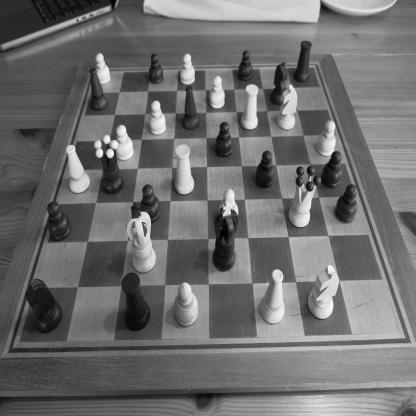black-bishop: (89, 67, 109, 112), (182, 85, 200, 131)
black-king: (212, 200, 239, 272)
black-knight: (24, 277, 63, 334), (270, 61, 288, 106)
black-pawn: (46, 200, 72, 243), (334, 183, 358, 225), (139, 184, 161, 225), (254, 149, 275, 190), (321, 150, 342, 189), (215, 121, 233, 158), (148, 53, 164, 85), (238, 50, 253, 82)
black-queen: (94, 134, 124, 196)
black-rook: (121, 271, 151, 332), (292, 40, 312, 83)
white-bishop: (259, 269, 286, 326), (66, 144, 90, 195)
white-king: (125, 201, 157, 274)
white-knight: (307, 264, 340, 321), (277, 83, 298, 131)
white-pawn: (174, 282, 198, 328), (316, 120, 336, 157), (116, 124, 134, 161), (217, 188, 239, 216), (149, 100, 166, 136), (179, 52, 196, 86), (209, 76, 225, 110), (95, 52, 111, 85)
white-queen: (288, 165, 322, 229)
white-rook: (174, 144, 195, 196), (240, 84, 259, 130)
